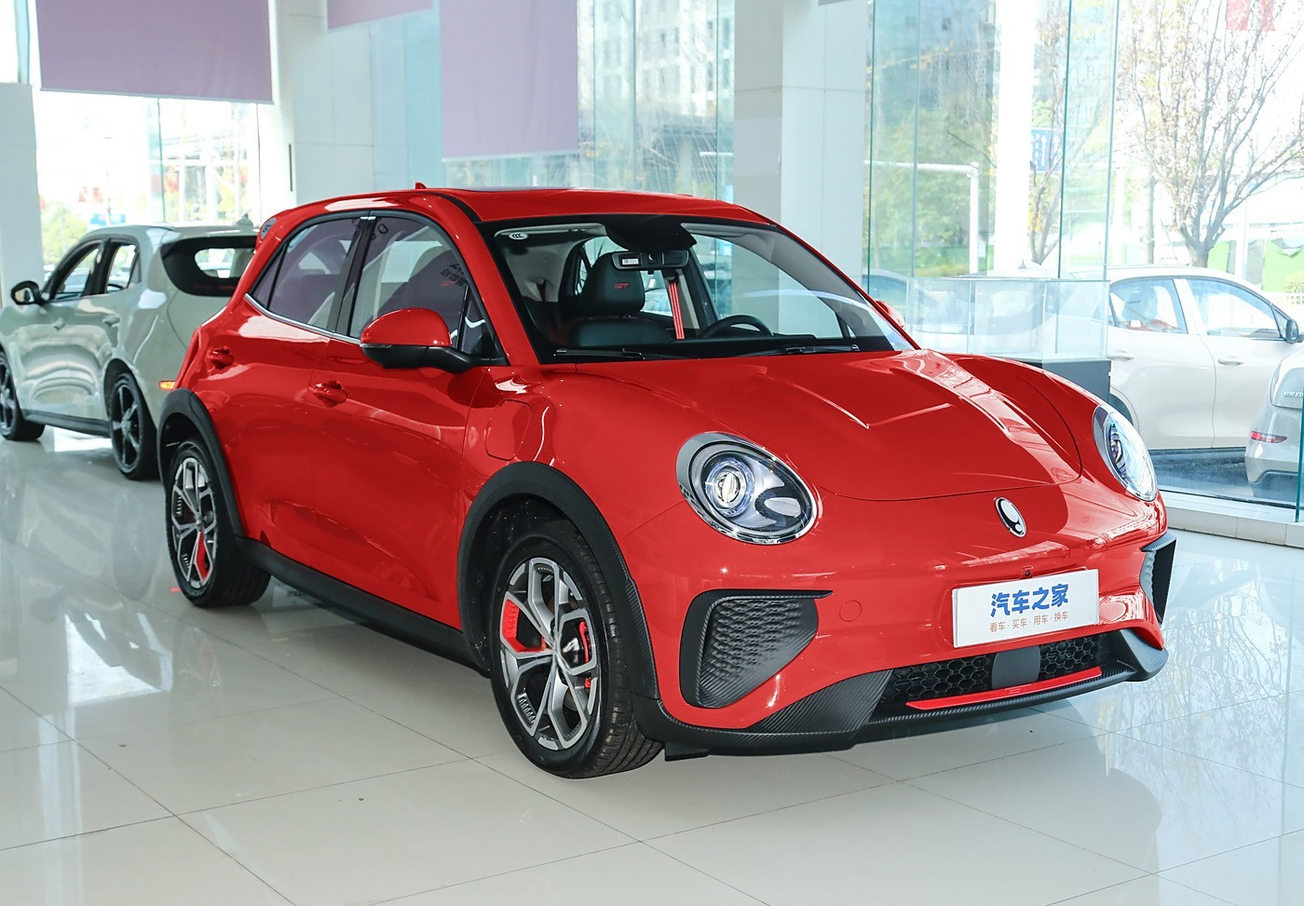ORA: (996, 498, 1026, 536)
